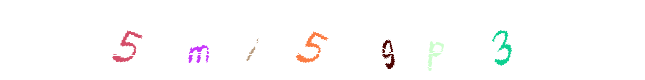3: (463, 0, 543, 80)
5: (158, 0, 238, 80), (282, 0, 362, 80)
G: (348, 0, 428, 80)
I: (210, 0, 290, 80)
M: (189, 0, 269, 80)
P: (400, 0, 480, 80)
